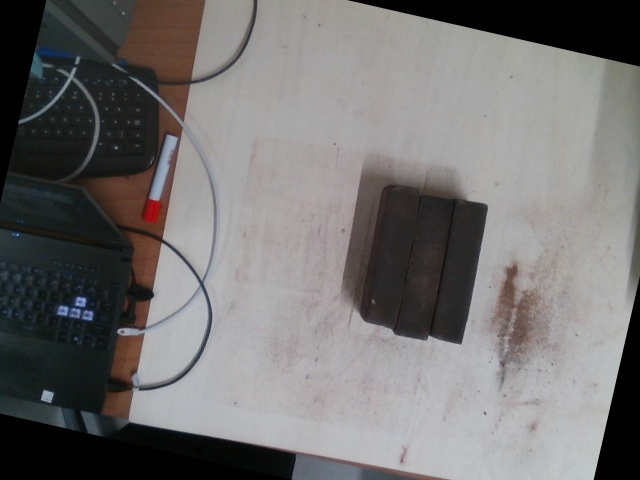brick-side: (395, 196, 455, 341), (364, 184, 424, 327), (434, 200, 487, 343)
